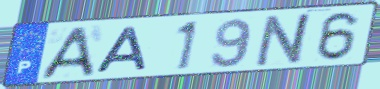1: (174, 19, 200, 71)
6: (313, 10, 362, 62)
9: (208, 17, 254, 69)
A: (38, 24, 97, 81), (93, 25, 150, 75)
N: (252, 11, 318, 69)
